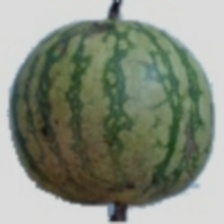watermelon: (16, 16, 183, 173)
